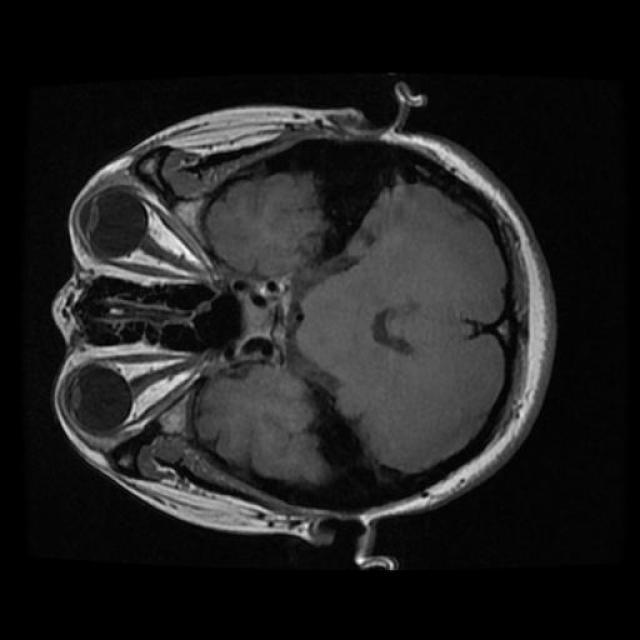Pituitary: (228, 273, 296, 364)
